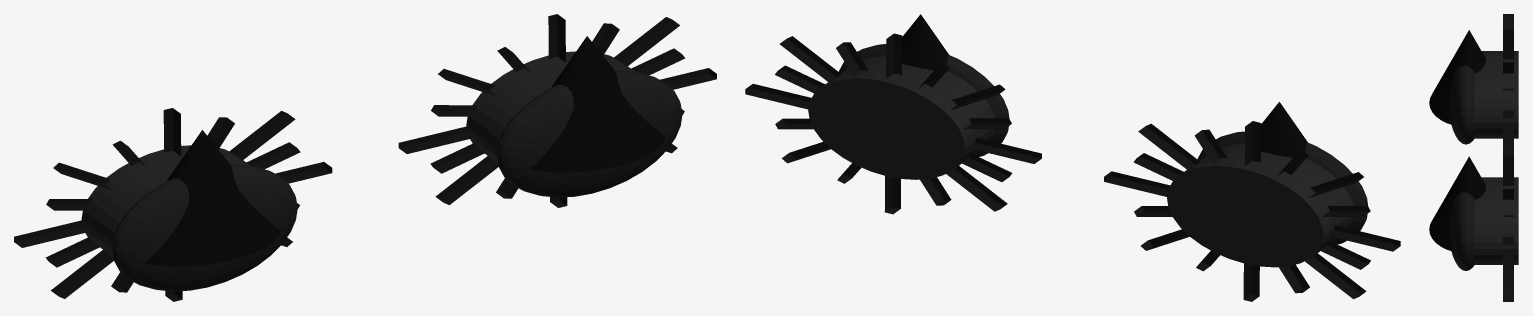
File: Cooker Unit (Oven Buttons 2).fbx
The picture shows the model from 3 angles, left to right: view 1: azimuth 30°, elevation 25°; view 2: azimuth 150°, elevation 25°; view 3: azimuth 270°, elevation 25°; orthographic projection. The views are drawn at different scales.
Parts seen in each view (by area): view 1: Cooker Buttons.004, Cooker Buttons.003; view 2: Cooker Buttons.004, Cooker Buttons.003; view 3: Cooker Buttons.004, Cooker Buttons.003.
Boxes of the visible parts, x1,y1,x2,y2 form: Cooker Buttons.004: (398, 14, 716, 207); Cooker Buttons.003: (14, 108, 332, 301); Cooker Buttons.004: (745, 14, 1041, 214); Cooker Buttons.003: (1104, 102, 1400, 301); Cooker Buttons.004: (1429, 140, 1518, 301); Cooker Buttons.003: (1429, 14, 1518, 144).
Bounding box in the file's own units: 0.189 × 0.0493 × 0.0313.
Materials: 22 (2 with a texture image).
